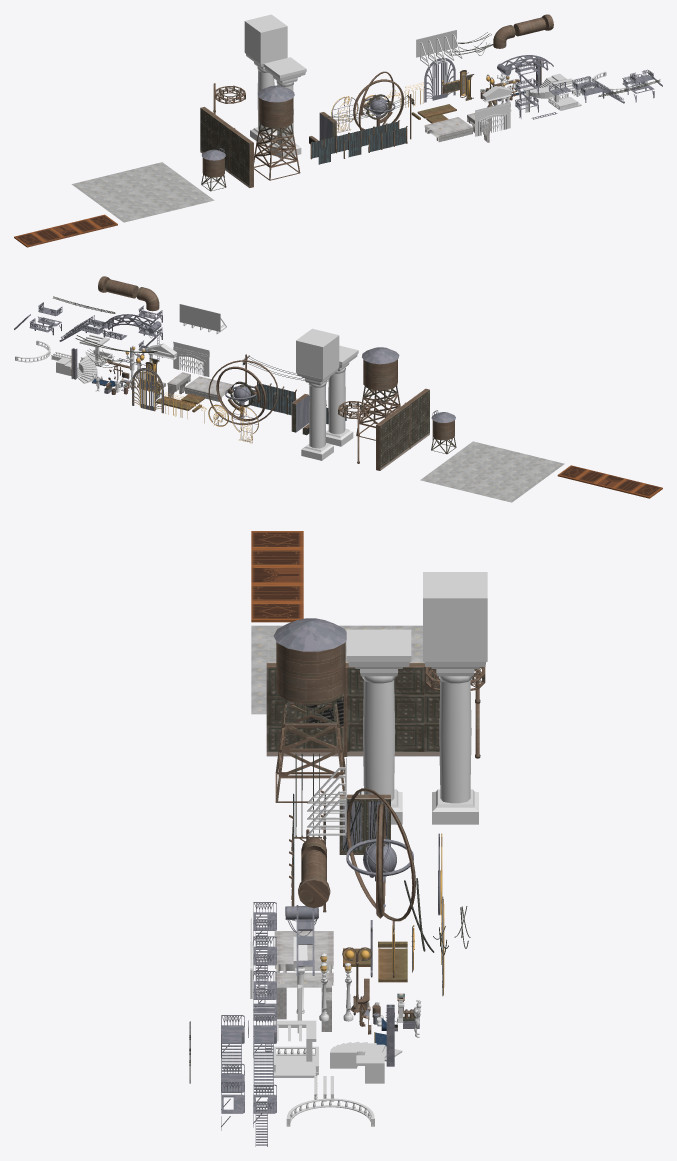
File: DecorationSet.fbx
3 renders of one model, top to bottom at view 1: azimuth 30°, elevation 25°; view 2: azimuth 150°, elevation 25°; view 3: azimuth 270°, elevation 25°, orthographic. The views are drawn at different scales.
Visible parts, largest first — view 1: TileFloor, Watertank_Big, BigPillar.017, Metall_Wall, WoodTiles, Planet_Pole.001, BigPillar, Fence, AD_Big.001, Gate.002, MegaBuilding_ArtDecoGate.003, WaterTank_Small (+12 smaller); view 2: TileFloor, BigPillar.017, Metall_Wall, Watertank_Big, BigPillar, Planet_Pole.001, WoodTiles, MegaBuilding_ArtDecoGate.003, Gate.002, AD_Big.001, WaterTank_Small, Bridge_small_mid.002 (+11 smaller); view 3: BigPillar.017, Watertank_Big, Metall_Wall, BigPillar, WoodTiles, Planet_Pole.001, TileFloor, Metal_CabelWall, FireLadder.006, Balcony.001, Bridge_small_mid.002, AD_Big.001 (+5 smaller).
Part boxes in pixels (x1=…): TileFloor: x1=71, y1=162, x2=214, y2=222; Watertank_Big: x1=254, y1=85, x2=300, y2=180; BigPillar.017: x1=244, y1=14, x2=287, y2=144; Metall_Wall: x1=200, y1=106, x2=253, y2=187; WoodTiles: x1=14, y1=214, x2=117, y2=247; Planet_Pole.001: x1=353, y1=71, x2=404, y2=130; BigPillar: x1=263, y1=57, x2=306, y2=158; Fence: x1=310, y1=120, x2=399, y2=159; AD_Big.001: x1=416, y1=30, x2=462, y2=66; Gate.002: x1=475, y1=102, x2=510, y2=136; MegaBuilding_ArtDecoGate.003: x1=424, y1=58, x2=455, y2=102; WaterTank_Small: x1=201, y1=148, x2=226, y2=191; TileFloor: x1=420, y1=441, x2=564, y2=502; BigPillar.017: x1=296, y1=328, x2=339, y2=460; Metall_Wall: x1=376, y1=388, x2=429, y2=470; Watertank_Big: x1=356, y1=347, x2=400, y2=440; BigPillar: x1=326, y1=345, x2=358, y2=446; Planet_Pole.001: x1=208, y1=360, x2=278, y2=424; WoodTiles: x1=557, y1=465, x2=662, y2=498; MegaBuilding_ArtDecoGate.003: x1=132, y1=368, x2=163, y2=413; Gate.002: x1=173, y1=341, x2=209, y2=376; AD_Big.001: x1=179, y1=304, x2=226, y2=333; WaterTank_Small: x1=431, y1=410, x2=456, y2=454; Bridge_small_mid.002: x1=184, y1=376, x2=233, y2=401; BigPillar.017: x1=423, y1=572, x2=487, y2=824; Watertank_Big: x1=273, y1=618, x2=346, y2=802; Metall_Wall: x1=266, y1=663, x2=439, y2=756; BigPillar: x1=346, y1=629, x2=411, y2=824; WoodTiles: x1=251, y1=531, x2=303, y2=622; Planet_Pole.001: x1=346, y1=788, x2=415, y2=921; TileFloor: x1=251, y1=625, x2=424, y2=714; Metal_CabelWall: x1=339, y1=794, x2=390, y2=854; FireLadder.006: x1=253, y1=902, x2=276, y2=1013; Balcony.001: x1=272, y1=1020, x2=318, y2=1077; Bridge_small_mid.002: x1=274, y1=931, x2=333, y2=972; AD_Big.001: x1=307, y1=758, x2=346, y2=835.
Size of the model in its own units: 14975 by 2916 by 3038.
